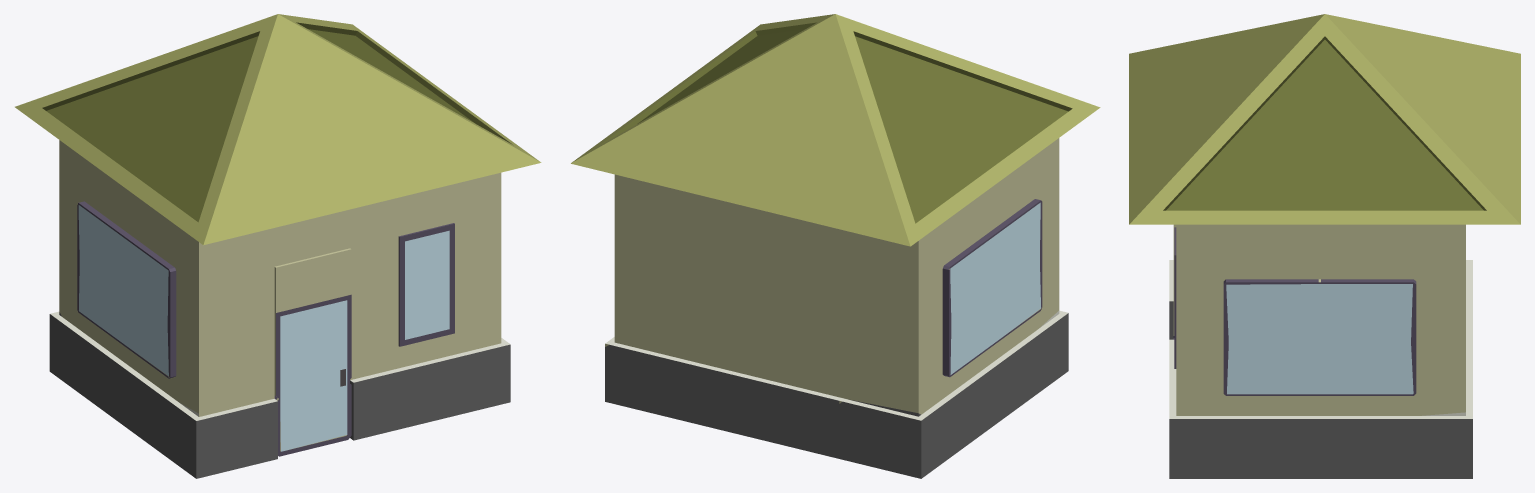
The picture shows the model from 3 angles, left to right: view 1: azimuth 30°, elevation 25°; view 2: azimuth 150°, elevation 25°; view 3: azimuth 270°, elevation 25°; orthographic projection. The views are drawn at different scales.
Parts seen in each view (by area): view 1: Box001, Pyramid001; view 2: Box001, Pyramid001; view 3: Box001, Pyramid001.
Boxes of the visible parts, bbox=[...] form: Box001: bbox=[49, 140, 510, 478]; Pyramid001: bbox=[15, 14, 541, 245]; Box001: bbox=[605, 138, 1068, 478]; Pyramid001: bbox=[571, 14, 1100, 246]; Box001: bbox=[1169, 224, 1472, 478]; Pyramid001: bbox=[1129, 14, 1520, 224].
Size of the model in its own units: 55.95 by 58.75 by 54.14.
